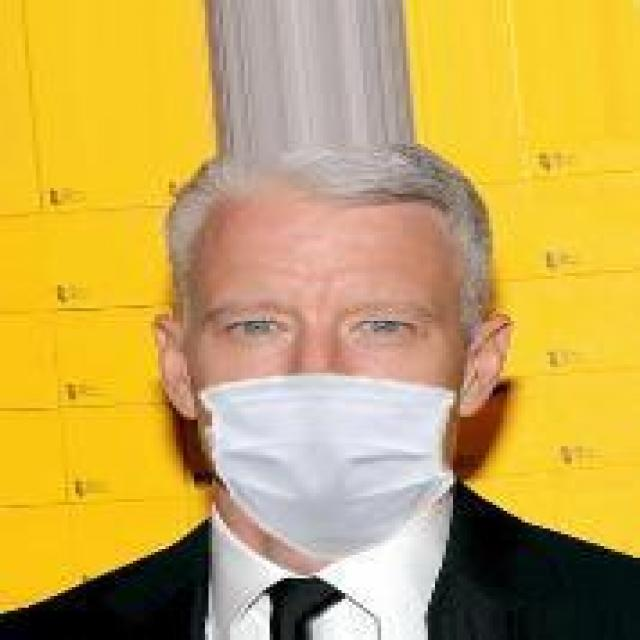mask: (133, 123, 518, 540)
